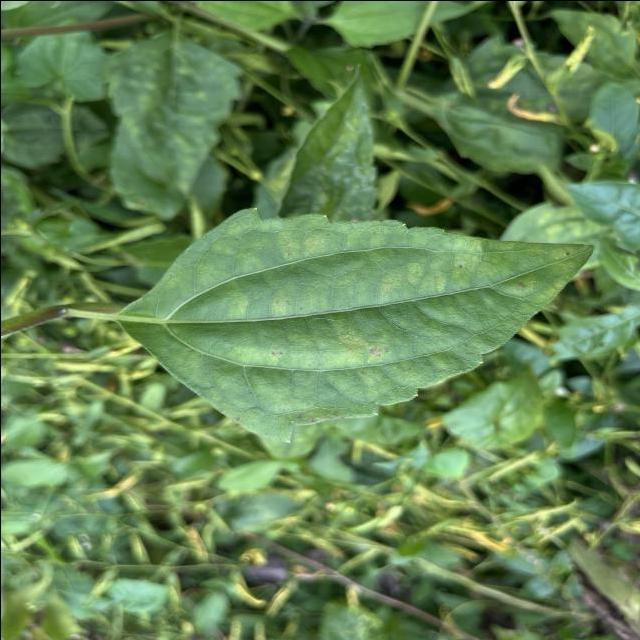Chromolaena odorata: (113, 201, 600, 448)
